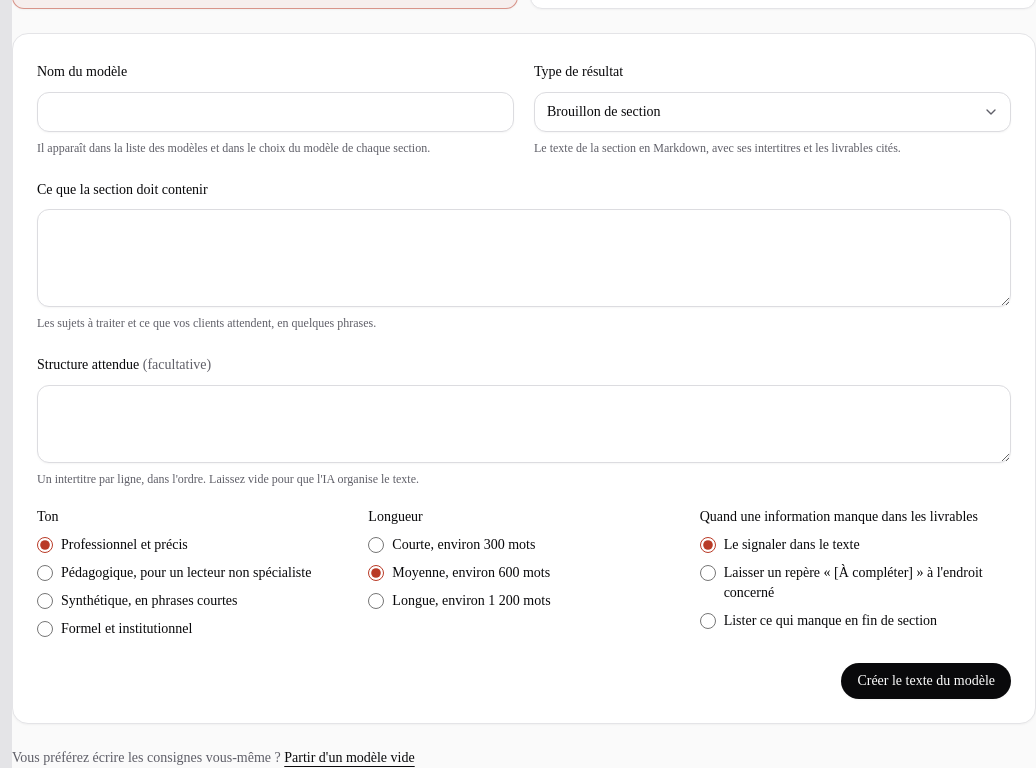
Scenario: DescribeTemplate, from the form › names what is missing and keeps the focus on the first field
The width and height of the screenshot is (1036, 768).
(page scrolled)
Click the button "Créer le texte du modèle" at (926, 681), box [841, 663, 1011, 699]
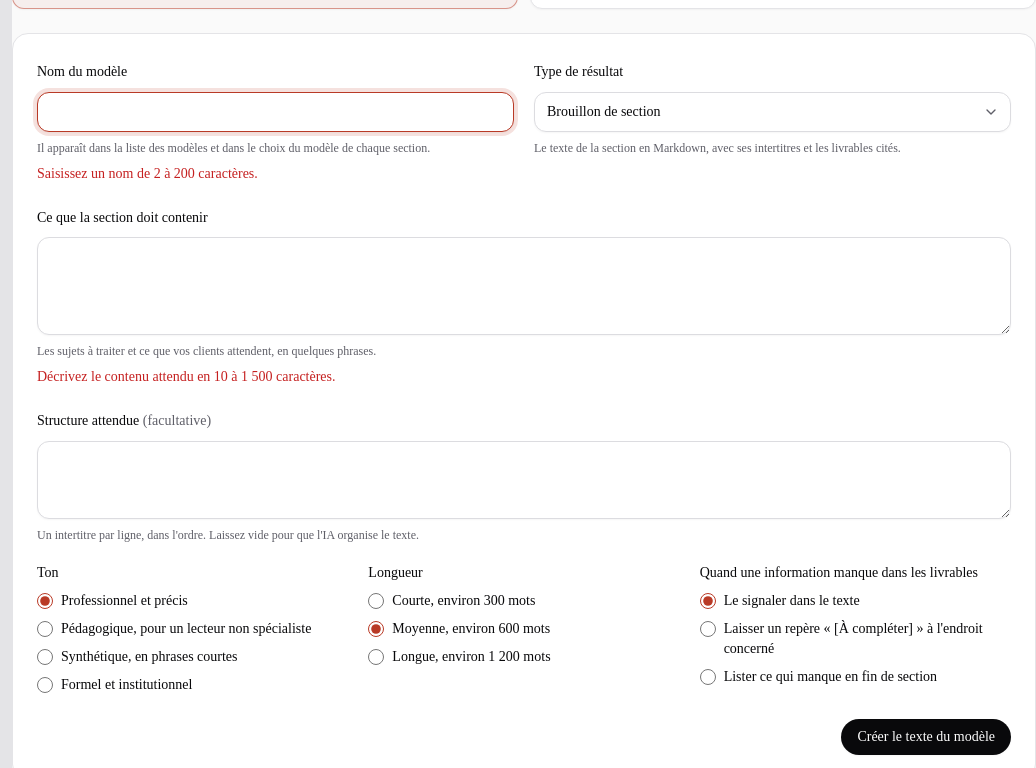
Now the text "Saisissez un nom de 2 à 200 caractères." is shown, box [37, 166, 258, 181]
Now the text "Décrivez le contenu attendu en 10 à 1 500 caractères." is shown, box [37, 369, 336, 384]
